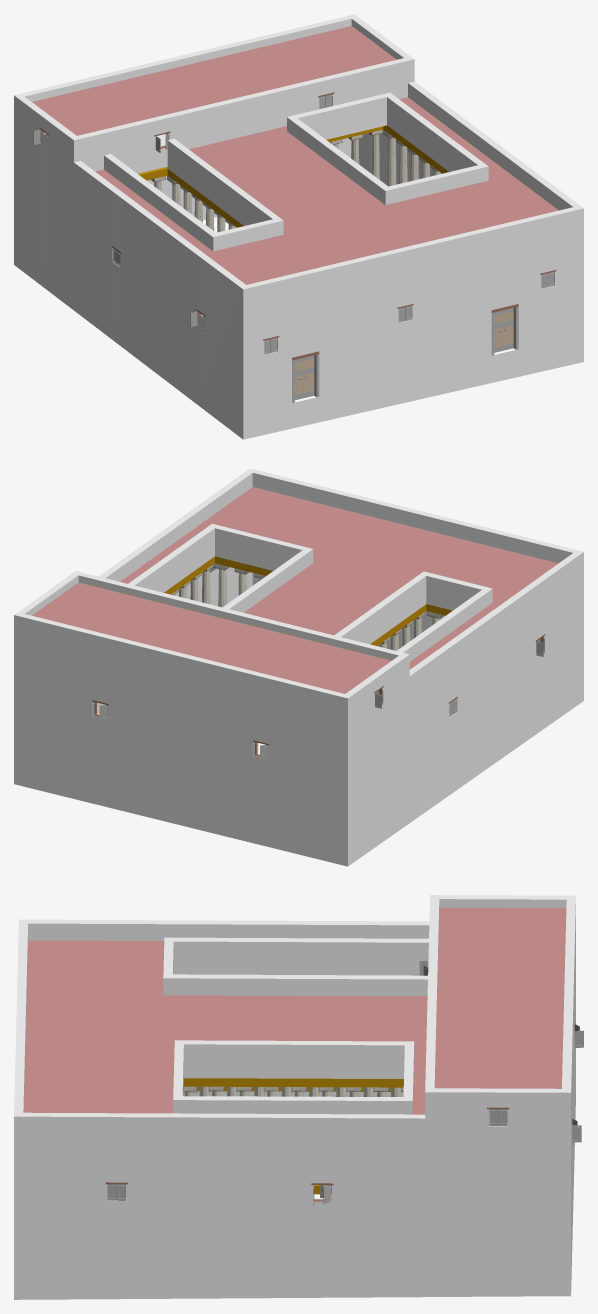
Rendered from LOD_Block_2_81.glb.
The picture shows the model from 3 angles, top to bottom: view 1: azimuth 30°, elevation 25°; view 2: azimuth 150°, elevation 25°; view 3: azimuth 270°, elevation 25°; orthographic projection. The views are drawn at different scales.
Visible parts, largest first — view 1: _1.3878; view 2: _1.3878; view 3: _1.3878.
Part boxes in pixels (box(x1,y1,x2,y2)): _1.3878: box(14, 14, 583, 439); _1.3878: box(14, 468, 583, 866); _1.3878: box(14, 895, 583, 1299).
Bounding box in the file's own units: 26.11 × 12.4 × 30.56.
Materials: 21 (2 with a texture image).
